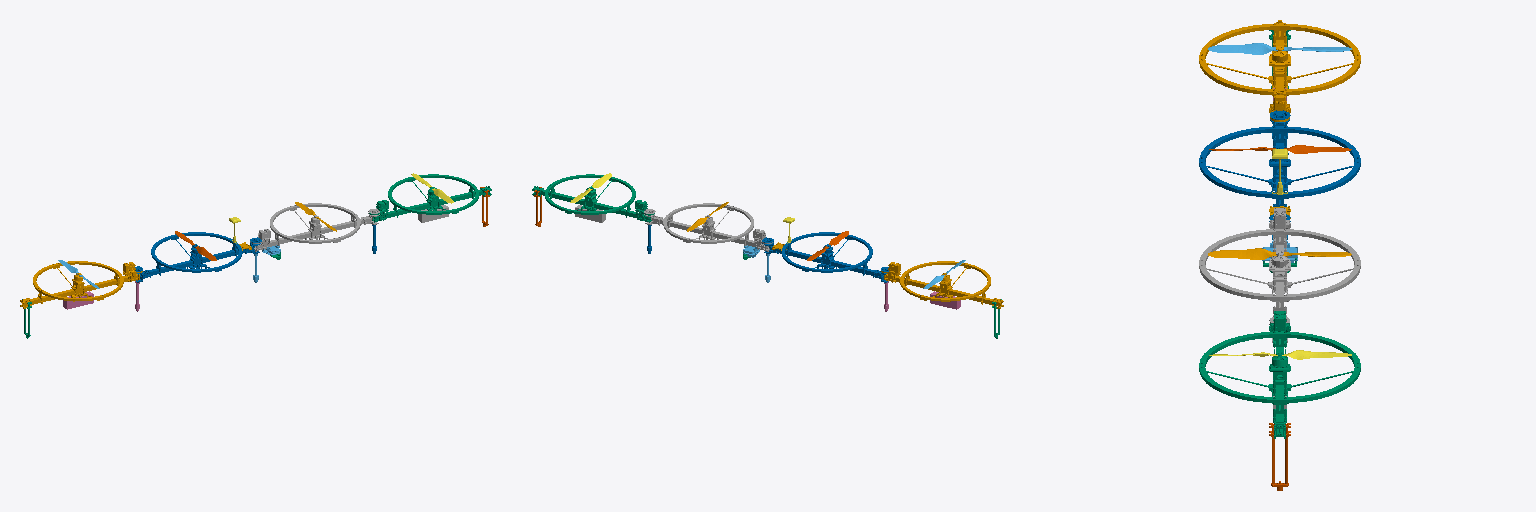
robot.urdf — hydrus:
<?xml version="1.0" ?>
<robot name="hydrus">
  <baselink name="fc"/>
  <thrust_link name="thrust"/>
  <m_f_rate value="-0.0172"/>
  <link name="link1">
    <inertial>
      <origin rpy="0 0 0" xyz="0.356 0.0 0.02577"/>
      <mass value="0.61442"/>
      <inertia ixx="0.002" ixy="0.00000" ixz="0.00045" iyy="0.01634" iyz="0.00000" izz="0.01723"/>
    </inertial>
    <visual>
      <origin rpy="0 0 0" xyz="0.3 0 0"/>
      <geometry>
        <mesh filename="tilt_10deg_link1.stl"/>
      </geometry>
    </visual>
    <collision name="link1">
      <origin rpy="0 0 0" xyz="0.3 0 0"/>
      <geometry>
        <mesh filename="tilt_10deg_link1.stl"/>
      </geometry>
    </collision>
  </link>
  <gazebo reference="link1">
    <dampingFactor>0.00</dampingFactor>
  </gazebo>
  <joint name="rotor1" type="continuous">
    <limit effort="100.0" lower="1.0" upper="20.0" velocity="0.5"/>
    <parent link="link1"/>
    <child link="thrust1"/>
    <origin rpy="0 0.17453292519943295 0" xyz="0.3 0 0.045"/>
    <axis xyz="0 0 -1"/>
  </joint>
  <link name="thrust1">
    <inertial>
      <origin rpy="0 0 0" xyz="0 0 0"/>
      <mass value="0.0001"/>
      <inertia ixx="0.00001" ixy="0.0" ixz="0.0" iyy="0.00001" iyz="0.0" izz="0.00002"/>
    </inertial>
    <visual>
      <origin rpy="0 0 0" xyz="0 0 0.032"/>
      <geometry>
        <mesh filename="T-motor-CF-14inch-CW.stl"/>
      </geometry>
    </visual>
    <collision name="thrust1">
      <origin rpy="0 0 0" xyz="0 0 0.032"/>
      <geometry>
        <mesh filename="T-motor-CF-14inch-CW.stl"/>
      </geometry>
    </collision>
  </link>
  <gazebo reference="thrust1">
    <dampingFactor>0.00</dampingFactor>
  </gazebo>
  <joint name="link12leg1" type="fixed">
    <parent link="link1"/>
    <child link="leg1"/>
    <origin rpy="0 0 0" xyz="0.041159999999999974 0.0 0"/>
  </joint>
  <link name="leg1">
    <inertial>
      <origin rpy="0 0 0" xyz="0.0 0.0005 -0.09411"/>
      <mass value="0.0471"/>
      <inertia ixx="0.000251" ixy="0.000000" ixz="0.000000" iyy="0.000242" iyz="0.000000" izz="0.000011"/>
    </inertial>
    <visual>
      <origin rpy="0 0 0" xyz="0 0 0"/>
      <geometry>
        <mesh filename="end_leg.stl"/>
      </geometry>
    </visual>
    <collision name="leg1">
      <origin rpy="0 0 0" xyz="0 0 0"/>
      <geometry>
        <mesh filename="end_leg.stl"/>
      </geometry>
    </collision>
  </link>
  <joint name="joint1" type="revolute">
    <limit effort="10.0" lower="-1.5707963267948966" upper="1.5707963267948966" velocity="0.5"/>
    <parent link="link1"/>
    <child link="link2"/>
    <origin rpy="0 0 0" xyz="0.6 0 0"/>
    <axis xyz="0 0 1"/>
    <dynamics damping="0.9" friction="0.05"/>
  </joint>
  <link name="root">
    <inertial>
      <origin rpy="0 0 0" xyz="0 0 0"/>
      <mass value="0.00001"/>
      <inertia ixx="0.000001" ixy="0.0" ixz="0.0" iyy="0.000001" iyz="0.0" izz="0.000002"/>
    </inertial>
  </link>
  <joint name="root_joint" type="fixed">
    <parent link="root"/>
    <child link="link1"/>
    <origin rpy="0 0 0" xyz="0 0 0"/>
    <axis xyz="0 0 1"/>
  </joint>
  <gazebo reference="link1">
    <mu1>0.1</mu1>
    <mu2>0.1</mu2>
  </gazebo>
  <link name="link2">
    <inertial>
      <origin rpy="0 0 0" xyz="0.2995 0.0 0.0204"/>
      <mass value="0.58312"/>
      <inertia ixx="0.002" ixy="0.00000" ixz="0.00000" iyy="0.01752" iyz="0.00000" izz="0.018447"/>
    </inertial>
    <visual>
      <origin rpy="0 0 0" xyz="0.3 0 0"/>
      <geometry>
        <mesh filename="tilt_10deg_link2.stl"/>
      </geometry>
    </visual>
    <collision name="link2">
      <origin rpy="0 0 0" xyz="0.3 0 0"/>
      <geometry>
        <mesh filename="tilt_10deg_link2.stl"/>
      </geometry>
    </collision>
  </link>
  <gazebo reference="link2">
    <dampingFactor>0.00</dampingFactor>
  </gazebo>
  <joint name="rotor2" type="continuous">
    <limit effort="100.0" lower="1.0" upper="20.0" velocity="0.5"/>
    <parent link="link2"/>
    <child link="thrust2"/>
    <origin rpy="0 -0.17453292519943295 0" xyz="0.3 0 0.045"/>
    <axis xyz="0 0 1"/>
  </joint>
  <link name="thrust2">
    <inertial>
      <origin rpy="0 0 0" xyz="0 0 0"/>
      <mass value="0.0001"/>
      <inertia ixx="0.00001" ixy="0.0" ixz="0.0" iyy="0.00001" iyz="0.0" izz="0.00002"/>
    </inertial>
    <visual>
      <origin rpy="0 0 0" xyz="0 0 0.032"/>
      <geometry>
        <mesh filename="T-motor-CF-14inch-CCW.stl"/>
      </geometry>
    </visual>
    <collision name="thrust2">
      <origin rpy="0 0 0" xyz="0 0 0.032"/>
      <geometry>
        <mesh filename="T-motor-CF-14inch-CCW.stl"/>
      </geometry>
    </collision>
  </link>
  <gazebo reference="thrust2">
    <dampingFactor>0.00</dampingFactor>
  </gazebo>
  <joint name="link22leg2" type="fixed">
    <parent link="link2"/>
    <child link="leg2"/>
    <origin rpy="0 0 0" xyz="0.0 0.0 0"/>
  </joint>
  <link name="leg2">
    <inertial>
      <origin rpy="0 0 0" xyz="0.0 0.0005 -0.09521"/>
      <mass value="0.0471"/>
      <inertia ixx="0.000251" ixy="0.000000" ixz="0.000000" iyy="0.000242" iyz="0.000000" izz="0.000011"/>
    </inertial>
    <visual>
      <origin rpy="0 0 0" xyz="0 0 0"/>
      <geometry>
        <mesh filename="joint_leg.stl"/>
      </geometry>
    </visual>
    <collision name="leg2">
      <origin rpy="0 0 0" xyz="0 0 0"/>
      <geometry>
        <mesh filename="joint_leg.stl"/>
      </geometry>
    </collision>
  </link>
  <joint name="joint2" type="revolute">
    <limit effort="10.0" lower="-1.5707963267948966" upper="1.5707963267948966" velocity="0.5"/>
    <parent link="link2"/>
    <child link="link3"/>
    <origin rpy="0 0 0" xyz="0.6 0 0"/>
    <axis xyz="0 0 1"/>
    <dynamics damping="0.9" friction="0.05"/>
  </joint>
  <gazebo reference="link2">
    <mu1>0.1</mu1>
    <mu2>0.1</mu2>
  </gazebo>
  <link name="link3">
    <inertial>
      <origin rpy="0 0 0" xyz="0.27 0.0 0.025"/>
      <mass value="0.66183"/>
      <inertia ixx="0.002" ixy="0.00000" ixz="0.00000" iyy="0.021851" iyz="0.00000" izz="0.022718"/>
    </inertial>
    <visual>
      <origin rpy="0 0 0" xyz="0.3 0 0"/>
      <geometry>
        <mesh filename="tilt_10deg_link3.stl"/>
      </geometry>
    </visual>
    <collision name="link3">
      <origin rpy="0 0 0" xyz="0.3 0 0"/>
      <geometry>
        <mesh filename="tilt_10deg_link3.stl"/>
      </geometry>
    </collision>
  </link>
  <gazebo reference="link3">
    <dampingFactor>0.00</dampingFactor>
  </gazebo>
  <joint name="rotor3" type="continuous">
    <limit effort="100.0" lower="1.0" upper="20.0" velocity="0.5"/>
    <parent link="link3"/>
    <child link="thrust3"/>
    <origin rpy="0 0.17453292519943295 0" xyz="0.3 0 0.045"/>
    <axis xyz="0 0 -1"/>
  </joint>
  <link name="thrust3">
    <inertial>
      <origin rpy="0 0 0" xyz="0 0 0"/>
      <mass value="0.0001"/>
      <inertia ixx="0.00001" ixy="0.0" ixz="0.0" iyy="0.00001" iyz="0.0" izz="0.00002"/>
    </inertial>
    <visual>
      <origin rpy="0 0 0" xyz="0 0 0.032"/>
      <geometry>
        <mesh filename="T-motor-CF-14inch-CW.stl"/>
      </geometry>
    </visual>
    <collision name="thrust3">
      <origin rpy="0 0 0" xyz="0 0 0.032"/>
      <geometry>
        <mesh filename="T-motor-CF-14inch-CW.stl"/>
      </geometry>
    </collision>
  </link>
  <gazebo reference="thrust3">
    <dampingFactor>0.00</dampingFactor>
  </gazebo>
  <joint name="link32leg3" type="fixed">
    <parent link="link3"/>
    <child link="leg3"/>
    <origin rpy="0 0 0" xyz="0.0 0.0 0"/>
  </joint>
  <link name="leg3">
    <inertial>
      <origin rpy="0 0 0" xyz="0.0 0.0005 -0.09521"/>
      <mass value="0.0471"/>
      <inertia ixx="0.000251" ixy="0.000000" ixz="0.000000" iyy="0.000242" iyz="0.000000" izz="0.000011"/>
    </inertial>
    <visual>
      <origin rpy="0 0 0" xyz="0 0 0"/>
      <geometry>
        <mesh filename="joint_leg.stl"/>
      </geometry>
    </visual>
    <collision name="leg3">
      <origin rpy="0 0 0" xyz="0 0 0"/>
      <geometry>
        <mesh filename="joint_leg.stl"/>
      </geometry>
    </collision>
  </link>
  <joint name="joint3" type="revolute">
    <limit effort="10.0" lower="-1.5707963267948966" upper="1.5707963267948966" velocity="0.5"/>
    <parent link="link3"/>
    <child link="link4"/>
    <origin rpy="0 0 0" xyz="0.6 0 0"/>
    <axis xyz="0 0 1"/>
    <dynamics damping="0.9" friction="0.05"/>
  </joint>
  <gazebo reference="link3">
    <mu1>0.1</mu1>
    <mu2>0.1</mu2>
  </gazebo>
  <link name="link4">
    <inertial>
      <origin rpy="0 0 0" xyz="0.2424 0.0 0.0258"/>
      <mass value="0.616"/>
      <inertia ixx="0.002" ixy="0.00000" ixz="0.00000" iyy="0.0161" iyz="0.00000" izz="0.016992"/>
    </inertial>
    <visual>
      <origin rpy="0 0 0" xyz="0.3 0 0"/>
      <geometry>
        <mesh filename="tilt_10deg_link4.stl"/>
      </geometry>
    </visual>
    <collision name="link4">
      <origin rpy="0 0 0" xyz="0.3 0 0"/>
      <geometry>
        <mesh filename="tilt_10deg_link4.stl"/>
      </geometry>
    </collision>
  </link>
  <gazebo reference="link4">
    <dampingFactor>0.00</dampingFactor>
  </gazebo>
  <joint name="rotor4" type="continuous">
    <limit effort="100.0" lower="1.0" upper="20.0" velocity="0.5"/>
    <parent link="link4"/>
    <child link="thrust4"/>
    <origin rpy="0 -0.17453292519943295 0" xyz="0.3 0 0.045"/>
    <axis xyz="0 0 1"/>
  </joint>
  <link name="thrust4">
    <inertial>
      <origin rpy="0 0 0" xyz="0 0 0"/>
      <mass value="0.0001"/>
      <inertia ixx="0.00001" ixy="0.0" ixz="0.0" iyy="0.00001" iyz="0.0" izz="0.00002"/>
    </inertial>
    <visual>
      <origin rpy="0 0 0" xyz="0 0 0.032"/>
      <geometry>
        <mesh filename="T-motor-CF-14inch-CCW.stl"/>
      </geometry>
    </visual>
    <collision name="thrust4">
      <origin rpy="0 0 0" xyz="0 0 0.032"/>
      <geometry>
        <mesh filename="T-motor-CF-14inch-CCW.stl"/>
      </geometry>
    </collision>
  </link>
  <gazebo reference="thrust4">
    <dampingFactor>0.00</dampingFactor>
  </gazebo>
  <joint name="link42leg4" type="fixed">
    <parent link="link4"/>
    <child link="leg4"/>
    <origin rpy="0 0 0" xyz="0.0 0.0 0"/>
  </joint>
  <link name="leg4">
    <inertial>
      <origin rpy="0 0 0" xyz="0.0 0.0005 -0.09521"/>
      <mass value="0.0471"/>
      <inertia ixx="0.000251" ixy="0.000000" ixz="0.000000" iyy="0.000242" iyz="0.000000" izz="0.000011"/>
    </inertial>
    <visual>
      <origin rpy="0 0 0" xyz="0 0 0"/>
      <geometry>
        <mesh filename="joint_leg.stl"/>
      </geometry>
    </visual>
    <collision name="leg4">
      <origin rpy="0 0 0" xyz="0 0 0"/>
      <geometry>
        <mesh filename="joint_leg.stl"/>
      </geometry>
    </collision>
  </link>
  <joint name="link42leg5" type="fixed">
    <parent link="link4"/>
    <child link="leg5"/>
    <origin rpy="0 0 0" xyz="0.55884 0.0 0"/>
  </joint>
  <link name="leg5">
    <inertial>
      <origin rpy="0 0 0" xyz="0.0 0.0005 -0.09411"/>
      <mass value="0.0471"/>
      <inertia ixx="0.000251" ixy="0.000000" ixz="0.000000" iyy="0.000242" iyz="0.000000" izz="0.000011"/>
    </inertial>
    <visual>
      <origin rpy="0 0 0" xyz="0 0 0"/>
      <geometry>
        <mesh filename="end_leg.stl"/>
      </geometry>
    </visual>
    <collision name="leg5">
      <origin rpy="0 0 0" xyz="0 0 0"/>
      <geometry>
        <mesh filename="end_leg.stl"/>
      </geometry>
    </collision>
  </link>
  <gazebo reference="link4">
    <mu1>0.1</mu1>
    <mu2>0.1</mu2>
  </gazebo>
  <joint name="link12bat1" type="fixed">
    <parent link="link1"/>
    <child link="bat1"/>
    <origin rpy="0 0 0" xyz="0.3 0.0 -0.048"/>
  </joint>
  <link name="bat1">
    <inertial>
      <origin rpy="0 0 0" xyz="0 0 0"/>
      <mass value="0.4108"/>
      <inertia ixx="0.0001" ixy="0.0" ixz="0.0" iyy="0.0006" iyz="0.0" izz="0.0006"/>
    </inertial>
    <visual>
      <origin rpy="0 0 0" xyz="0 0 0"/>
      <geometry>
        <mesh filename="Kypom-3000-6s.stl"/>
      </geometry>
    </visual>
    <collision name="bat1">
      <origin rpy="0 0 0" xyz="0 0 0"/>
      <geometry>
        <mesh filename="Kypom-3000-6s.stl"/>
      </geometry>
    </collision>
  </link>
  <joint name="link42bat2" type="fixed">
    <parent link="link4"/>
    <child link="bat2"/>
    <origin rpy="0 0 0" xyz="0.3 0.0 -0.048"/>
  </joint>
  <link name="bat2">
    <inertial>
      <origin rpy="0 0 0" xyz="0 0 0"/>
      <mass value="0.4108"/>
      <inertia ixx="0.0001" ixy="0.0" ixz="0.0" iyy="0.0006" iyz="0.0" izz="0.0006"/>
    </inertial>
    <visual>
      <origin rpy="0 0 0" xyz="0 0 0"/>
      <geometry>
        <mesh filename="Kypom-3000-6s.stl"/>
      </geometry>
    </visual>
    <collision name="bat2">
      <origin rpy="0 0 0" xyz="0 0 0"/>
      <geometry>
        <mesh filename="Kypom-3000-6s.stl"/>
      </geometry>
    </collision>
  </link>
  <joint name="link22fc" type="fixed">
    <parent link="link2"/>
    <child link="fc"/>
    <origin rpy="0 0 0" xyz="0.5221 -0.0044 0.02135"/>
  </joint>
  <link name="fc">
    <inertial>
      <mass value="0.05"/>
      <origin rpy="0 0 0" xyz="0.013000000000000001 0.0044 -0.009000000000000001"/>
      <inertia ixx="0.00001" ixy="0.0" ixz="0.0" iyy="0.00001" iyz="0.0" izz="0.00002"/>
    </inertial>
    <visual>
      <origin rpy="0 0 0" xyz="0 0 0"/>
      <geometry>
        <mesh filename="spinal.stl"/>
      </geometry>
    </visual>
    <collision name="fc">
      <origin rpy="0 0 0" xyz="0 0 0"/>
      <geometry>
        <mesh filename="spinal.stl"/>
      </geometry>
    </collision>
  </link>
  <joint name="link32pc" type="fixed">
    <parent link="link3"/>
    <child link="pc"/>
    <origin rpy="0 0 0" xyz="0.06225 0.0 -0.01"/>
  </joint>
  <link name="pc">
    <inertial>
      <mass value="0.181"/>
      <origin rpy="0 0 0" xyz="0.018000000000000002 0.004 -0.018000000000000002"/>
      <inertia ixx="0.00007" ixy="0.0" ixz="0.0" iyy="0.00003" iyz="0.0" izz="0.00009"/>
    </inertial>
    <visual>
      <origin rpy="0 0 0" xyz="0 0 0"/>
      <geometry>
        <mesh filename="jetson_tx2_unit.stl"/>
      </geometry>
    </visual>
    <collision name="pc">
      <origin rpy="0 0 0" xyz="0 0 0"/>
      <geometry>
        <mesh filename="jetson_tx2_unit.stl"/>
      </geometry>
    </collision>
  </link>
  <joint name="link32leddarone" type="fixed">
    <parent link="link3"/>
    <child link="leddarone"/>
    <origin rpy="3.141592653589793 0 0" xyz="0.11449999999999999 0.0 -0.0626"/>
  </joint>
  <link name="leddarone">
    <inertial>
      <origin rpy="0 0 0" xyz="-0.008 0.0 0.0"/>
      <mass value="0.025"/>
      <inertia ixx="0.00001" ixy="0.000000" ixz="0.000000" iyy="0.000006" iyz="0.000000" izz="0.00001"/>
    </inertial>
    <visual>
      <origin rpy="0 0 0" xyz="0 0 0"/>
      <geometry>
        <mesh filename="leddar_one_tx2_attached_mode.stl"/>
      </geometry>
    </visual>
    <collision name="leddarone">
      <origin rpy="0 0 0" xyz="0 0 0"/>
      <geometry>
        <mesh filename="leddar_one_tx2_attached_mode.stl"/>
      </geometry>
    </collision>
  </link>
  <joint name="link22gps" type="fixed">
    <parent link="link2"/>
    <child link="gps"/>
    <origin rpy="0 0 0" xyz="0.4925 0.0 0.152"/>
  </joint>
  <link name="gps">
    <inertial>
      <origin rpy="0 0 0" xyz="0.000000 0.000000 -0.013"/>
      <mass value="0.042"/>
      <inertia ixx="0.00006" ixy="0.000000" ixz="0.000000" iyy="0.00006" iyz="0.000000" izz="0.000007"/>
    </inertial>
    <visual>
      <origin rpy="0 0 0" xyz="0 0 0"/>
      <geometry>
        <mesh filename="gps_ublox_m8n.stl"/>
      </geometry>
    </visual>
    <collision name="gps">
      <origin rpy="0 0 0" xyz="0 0 0"/>
      <geometry>
        <mesh filename="gps_ublox_m8n.stl"/>
      </geometry>
    </collision>
  </link>
  <joint name="gps2magnet" type="fixed">
    <parent link="gps"/>
    <child link="magnet"/>
    <origin rpy="0 0 0" xyz="0 0 0"/>
  </joint>
  <link name="magnet">
    <inertial>
      <mass value="0.00001"/>
      <origin rpy="0 0 0" xyz="0 0 0"/>
      <inertia ixx="0.000001" ixy="0.0" ixz="0.0" iyy="0.000001" iyz="0.0" izz="0.000002"/>
    </inertial>
  </link>
  <mujoco>
    <compiler balanceinertia="true"/>
    <option/>
  </mujoco>
</robot>

--- Render facts (derived) ---
Views: 3 orthographic renders of the robot side by side, from view 1: azimuth 30°, elevation 25°; view 2: azimuth 150°, elevation 25°; view 3: azimuth 270°, elevation 25°.
Model hydrus with 21 links and 20 joints (3 revolute, 4 continuous, 13 fixed), rooted at root, posed all joints at 0.
Links seen in each view (by area): view 1: link3, link1, link4, link2; view 2: link3, link1, link4, link2; view 3: link4, link3, link1, link2, thrust3, thrust1, thrust4.
Boxes of the visible links, x1,y1,x2,y2 form: link3: (250, 203, 379, 251); link1: (20, 261, 142, 308); link4: (369, 174, 491, 222); link2: (135, 232, 261, 282); link3: (644, 203, 772, 251); link1: (881, 261, 1003, 308); link4: (532, 174, 654, 222); link2: (762, 232, 888, 282); link4: (1199, 311, 1360, 438); link3: (1199, 208, 1360, 342); link1: (1199, 20, 1360, 121); link2: (1199, 110, 1360, 239); thrust3: (1208, 248, 1351, 259); thrust1: (1208, 43, 1351, 54); thrust4: (1209, 350, 1351, 359).
Size in the robot's own frame: 2.37 by 0.3997 by 0.3355 metres.
19 mesh visuals loaded from 13 distinct referenced files (13 binary STL).